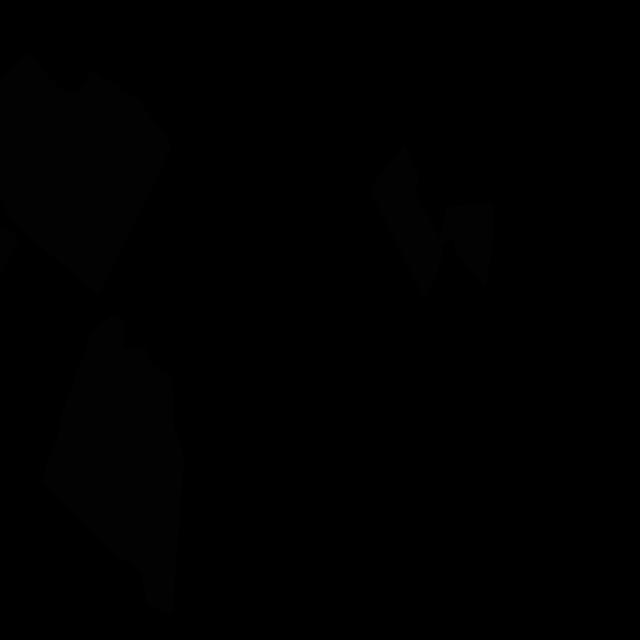cardboard: (40, 316, 184, 614), (0, 51, 172, 295), (369, 145, 494, 300), (0, 225, 20, 276)
